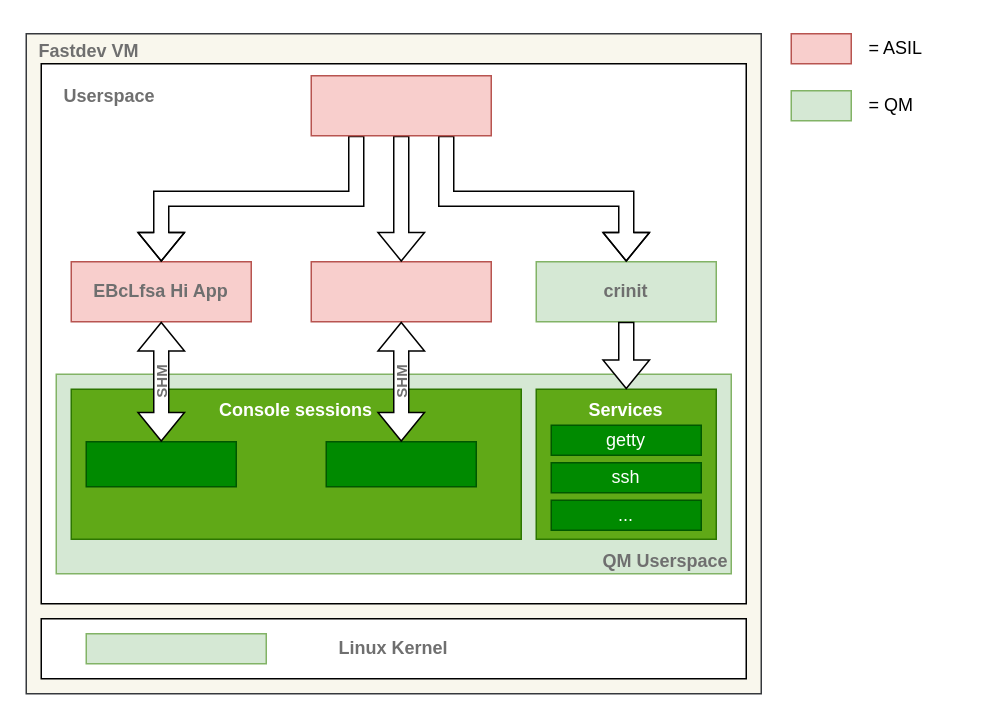
The diagram is 983 pixels wide and 720 high, and some of its shapes have lost their labels. The centre of each missing label's shape, as x and y in pixels:
cflinit (PID1): the point at 400,105
EBcLfsa Li App: the point at 160,463
Fastdev Patches: the point at 175,648
S-Core Hi App: the point at 400,291
S-Core Li App: the point at 400,463
